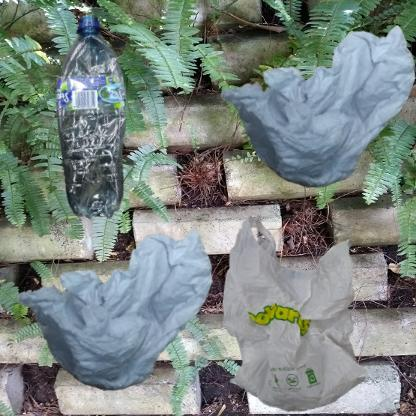bolsa: (213, 213, 384, 416)
botella: (10, 10, 216, 275)
papel: (10, 213, 219, 401), (213, 10, 416, 198)
